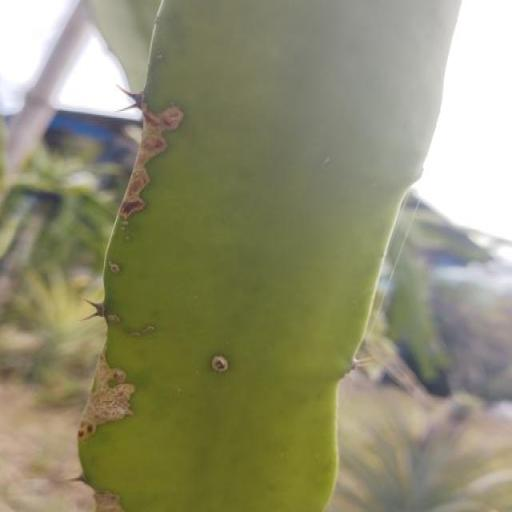stemcanker: (191, 158, 211, 205)
